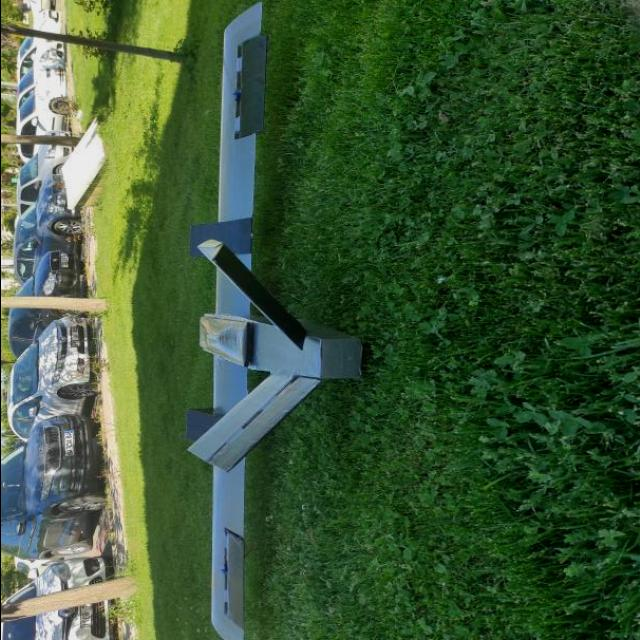plane: (182, 2, 364, 640)
